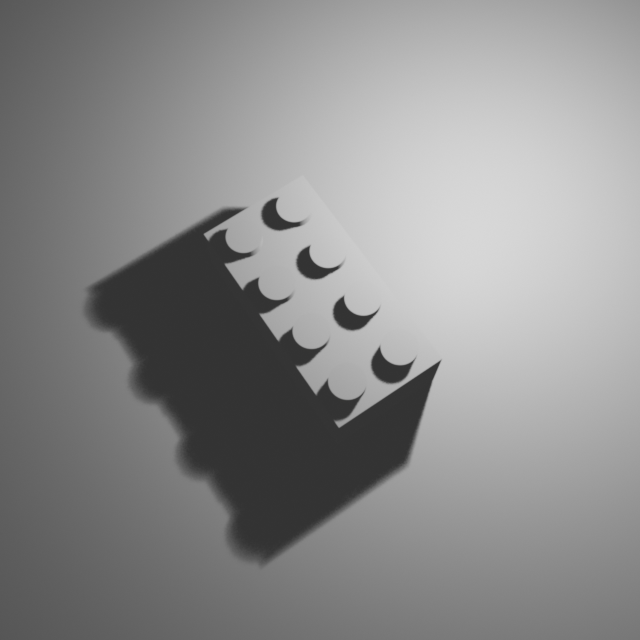lego_2x4: (202, 169, 444, 444)
